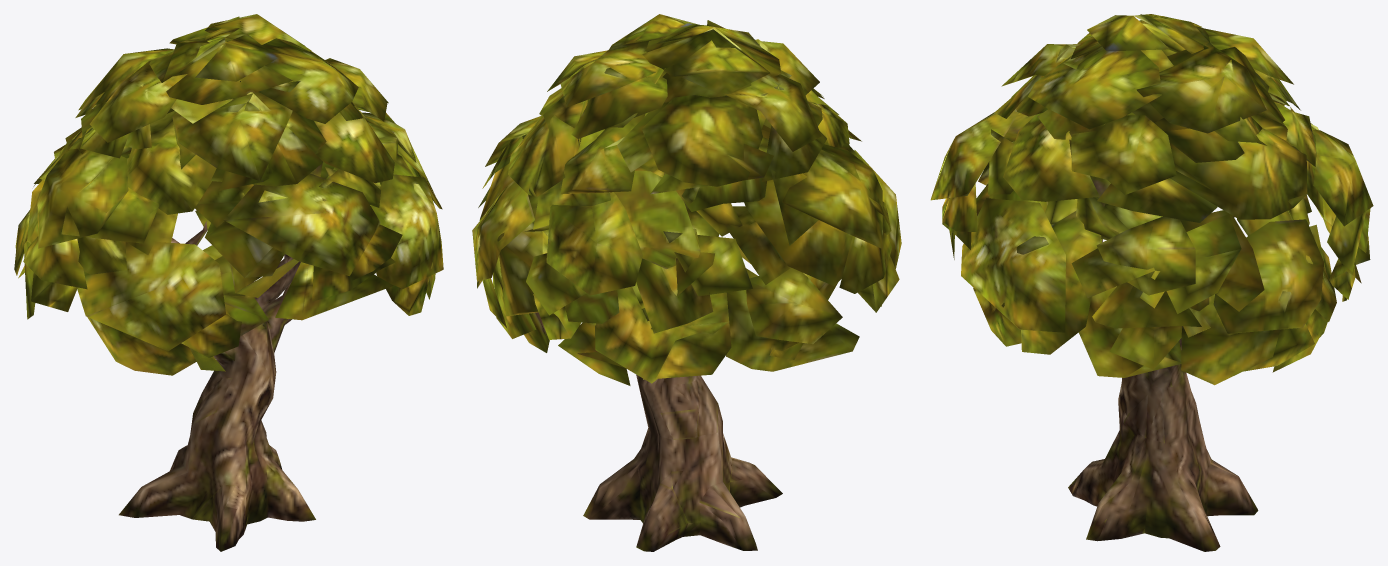
The model's file is tree_oak.glb.
The picture shows the model from 3 angles, left to right: view 1: azimuth 30°, elevation 25°; view 2: azimuth 150°, elevation 25°; view 3: azimuth 270°, elevation 25°; orthographic projection. The views are drawn at different scales.
Bounding box in the file's own units: 5.04 × 6 × 4.91.
1 material, 1 textured.
